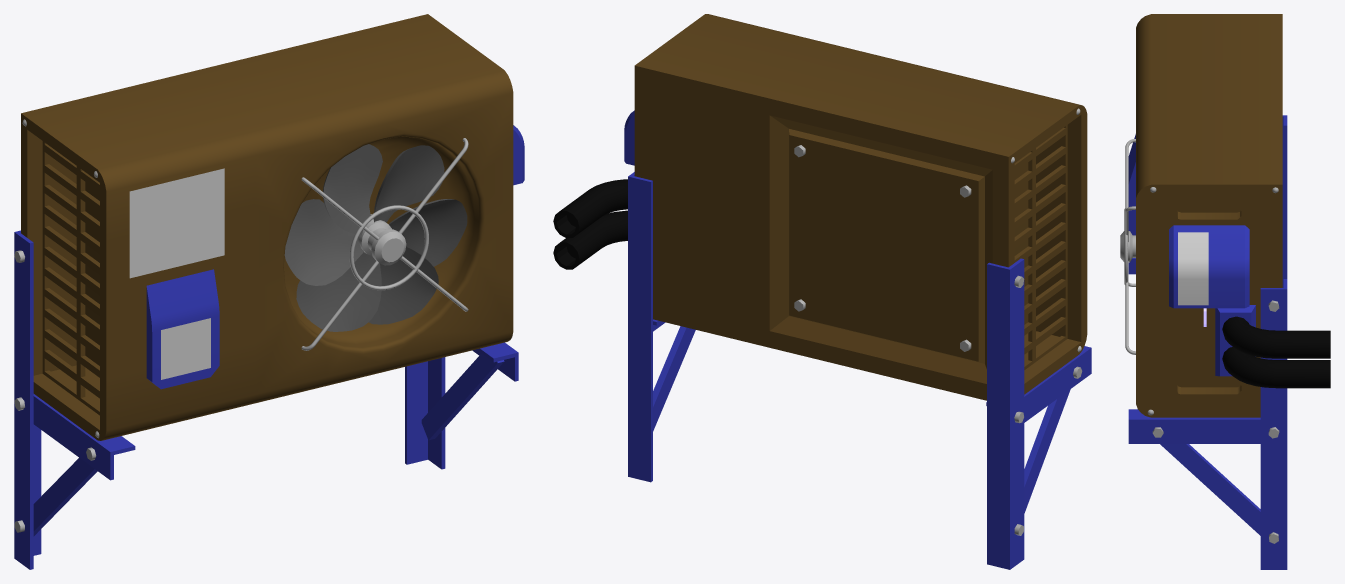
The model's file is misc 5.fbx.
3 views of the same model, side by side, from view 1: azimuth 30°, elevation 25°; view 2: azimuth 150°, elevation 25°; view 3: azimuth 270°, elevation 25° (orthographic). The views are drawn at different scales.
Parts seen in each view (by area): view 1: Desirefx.me_CyberAcc_AC_A_PaintWhiteRusty, Desirefx.me_CyberAcc_AC_A_PaintBlue, Desirefx.me_CyberAcc_AC_A_PaintBlack, Desirefx.me_CyberAcc_AC_A_Decals, Desirefx.me_CyberAcc_AC_A_SteelRaw; view 2: Desirefx.me_CyberAcc_AC_A_PaintWhiteRusty, Desirefx.me_CyberAcc_AC_A_PaintBlue, Desirefx.me_CyberAcc_AC_A_Rubber, Desirefx.me_CyberAcc_AC_A_SteelRaw; view 3: Desirefx.me_CyberAcc_AC_A_PaintWhiteRusty, Desirefx.me_CyberAcc_AC_A_PaintBlue, Desirefx.me_CyberAcc_AC_A_Rubber, Desirefx.me_CyberAcc_AC_A_Decals, Desirefx.me_CyberAcc_AC_A_SteelRaw.
Part boxes in pixels (x1,y1,x2,y2): Desirefx.me_CyberAcc_AC_A_PaintWhiteRusty: [21, 14, 513, 440]; Desirefx.me_CyberAcc_AC_A_PaintBlue: [14, 125, 524, 569]; Desirefx.me_CyberAcc_AC_A_PaintBlack: [284, 144, 467, 331]; Desirefx.me_CyberAcc_AC_A_Decals: [129, 125, 514, 379]; Desirefx.me_CyberAcc_AC_A_SteelRaw: [14, 119, 468, 532]; Desirefx.me_CyberAcc_AC_A_PaintWhiteRusty: [634, 14, 1087, 400]; Desirefx.me_CyberAcc_AC_A_PaintBlue: [624, 110, 1091, 569]; Desirefx.me_CyberAcc_AC_A_Rubber: [553, 179, 627, 269]; Desirefx.me_CyberAcc_AC_A_SteelRaw: [794, 108, 1082, 535]; Desirefx.me_CyberAcc_AC_A_PaintWhiteRusty: [1136, 14, 1282, 417]; Desirefx.me_CyberAcc_AC_A_PaintBlue: [1128, 115, 1287, 569]; Desirefx.me_CyberAcc_AC_A_Rubber: [1222, 316, 1330, 388]; Desirefx.me_CyberAcc_AC_A_Decals: [1178, 232, 1208, 305]; Desirefx.me_CyberAcc_AC_A_SteelRaw: [1120, 139, 1279, 543].
Bounding box in the file's own units: 3.27 × 2.93 × 1.46.
